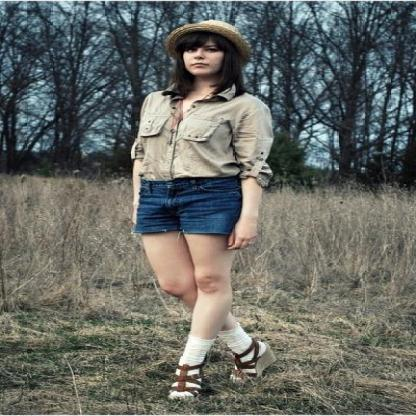hat: (143, 8, 257, 51)
shirt: (130, 91, 274, 207)
shoe: (162, 344, 261, 415)
shorts: (134, 176, 242, 241)
